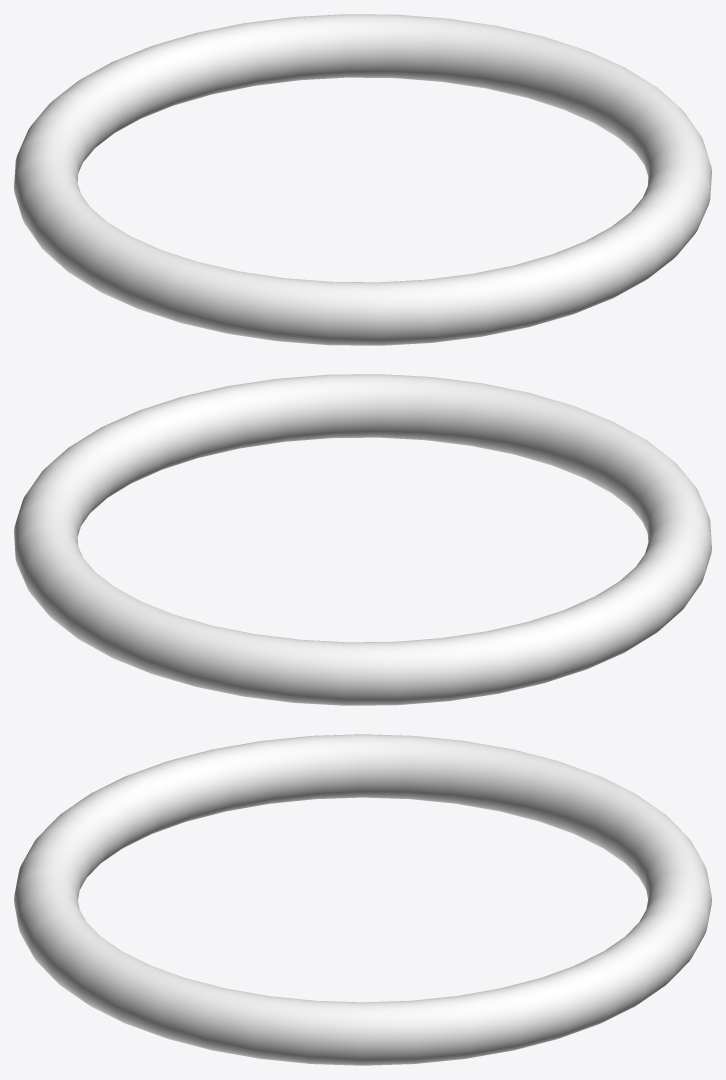
File: RingWhite.fbx
The picture shows the model from 3 angles, top to bottom: view 1: azimuth 30°, elevation 25°; view 2: azimuth 150°, elevation 25°; view 3: azimuth 270°, elevation 25°; orthographic projection.
Parts seen in each view (by area): view 1: pTorus1; view 2: pTorus1; view 3: pTorus1.
Boxes of the visible parts, x1=… form: pTorus1: x1=14, y1=14, x2=711, y2=345; pTorus1: x1=14, y1=374, x2=711, y2=705; pTorus1: x1=14, y1=734, x2=711, y2=1065.
Size of the model in its own units: 4.4 by 0.4 by 4.4.
Materials: 1 (1 with a texture image).
